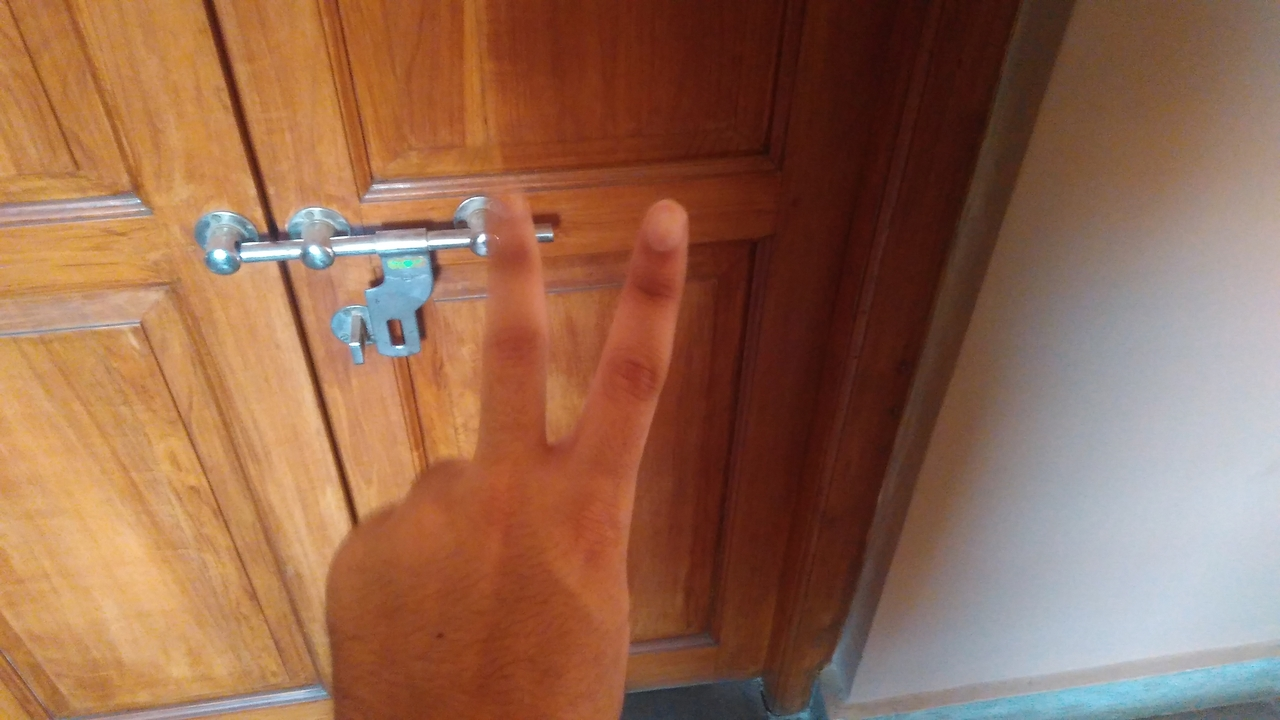fingertip: (628, 192, 696, 258), (471, 185, 531, 245)
